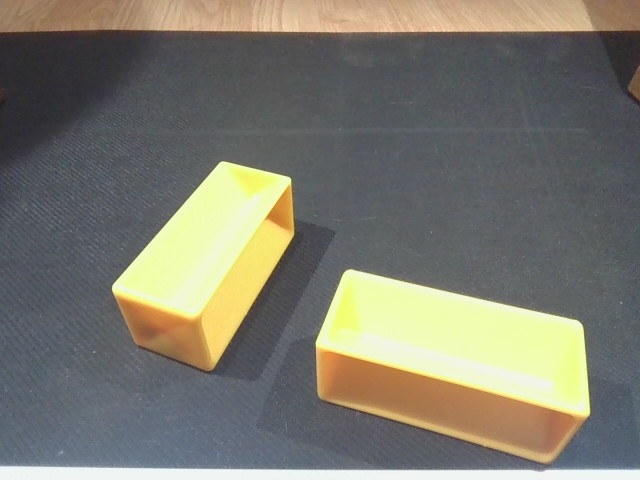YellowSample: (310, 263, 597, 480), (107, 158, 301, 375)
